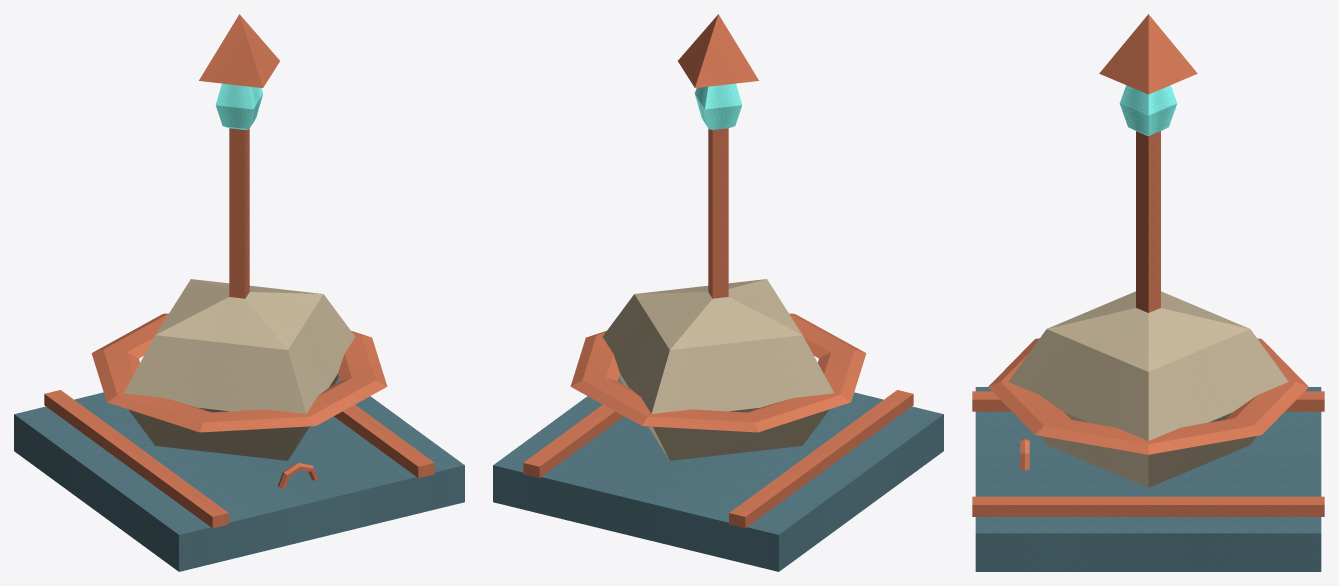
File: atlas100-s044-a01.lod2.glb
3 views of the same model, side by side, from view 1: azimuth 30°, elevation 25°; view 2: azimuth 150°, elevation 25°; view 3: azimuth 270°, elevation 25° (orthographic). The views are drawn at different scales.
Parts seen in each view (by area): view 1: atlas100-s044-a01:part-000, atlas100-s044-a01:part-003, atlas100-s044-a01:part-004, atlas100-s044-a01:part-001, atlas100-s044-a01:part-005, atlas100-s044-a01:part-008, atlas100-s044-a01:part-002, atlas100-s044-a01:part-007; view 2: atlas100-s044-a01:part-000, atlas100-s044-a01:part-003, atlas100-s044-a01:part-004, atlas100-s044-a01:part-001, atlas100-s044-a01:part-005, atlas100-s044-a01:part-008, atlas100-s044-a01:part-002, atlas100-s044-a01:part-007; view 3: atlas100-s044-a01:part-000, atlas100-s044-a01:part-003, atlas100-s044-a01:part-004, atlas100-s044-a01:part-002, atlas100-s044-a01:part-005, atlas100-s044-a01:part-008, atlas100-s044-a01:part-007, atlas100-s044-a01:part-001.
Boxes of the visible parts, <box> form: atlas100-s044-a01:part-000: <box>14,377,464,571</box>; atlas100-s044-a01:part-003: <box>124,279,355,460</box>; atlas100-s044-a01:part-004: <box>91,313,387,432</box>; atlas100-s044-a01:part-001: <box>44,390,228,528</box>; atlas100-s044-a01:part-005: <box>229,128,249,298</box>; atlas100-s044-a01:part-008: <box>199,14,279,87</box>; atlas100-s044-a01:part-002: <box>334,405,434,477</box>; atlas100-s044-a01:part-007: <box>215,83,263,129</box>; atlas100-s044-a01:part-000: <box>493,377,943,571</box>; atlas100-s044-a01:part-003: <box>602,279,833,460</box>; atlas100-s044-a01:part-004: <box>570,313,866,432</box>; atlas100-s044-a01:part-001: <box>729,390,913,528</box>; atlas100-s044-a01:part-005: <box>708,128,728,298</box>; atlas100-s044-a01:part-008: <box>678,14,758,87</box>; atlas100-s044-a01:part-002: <box>523,405,623,477</box>; atlas100-s044-a01:part-007: <box>694,83,742,129</box>; atlas100-s044-a01:part-000: <box>975,387,1321,571</box>; atlas100-s044-a01:part-003: <box>1008,291,1288,487</box>; atlas100-s044-a01:part-004: <box>988,338,1308,454</box>; atlas100-s044-a01:part-002: <box>972,496,1324,516</box>; atlas100-s044-a01:part-005: <box>1136,131,1160,312</box>; atlas100-s044-a01:part-008: <box>1099,14,1197,94</box>; atlas100-s044-a01:part-007: <box>1119,85,1177,136</box>; atlas100-s044-a01:part-001: <box>972,391,1324,411</box>.
Size of the model in its own units: 2.1 by 3.25 by 2.14.
4 materials, 4 textured.
